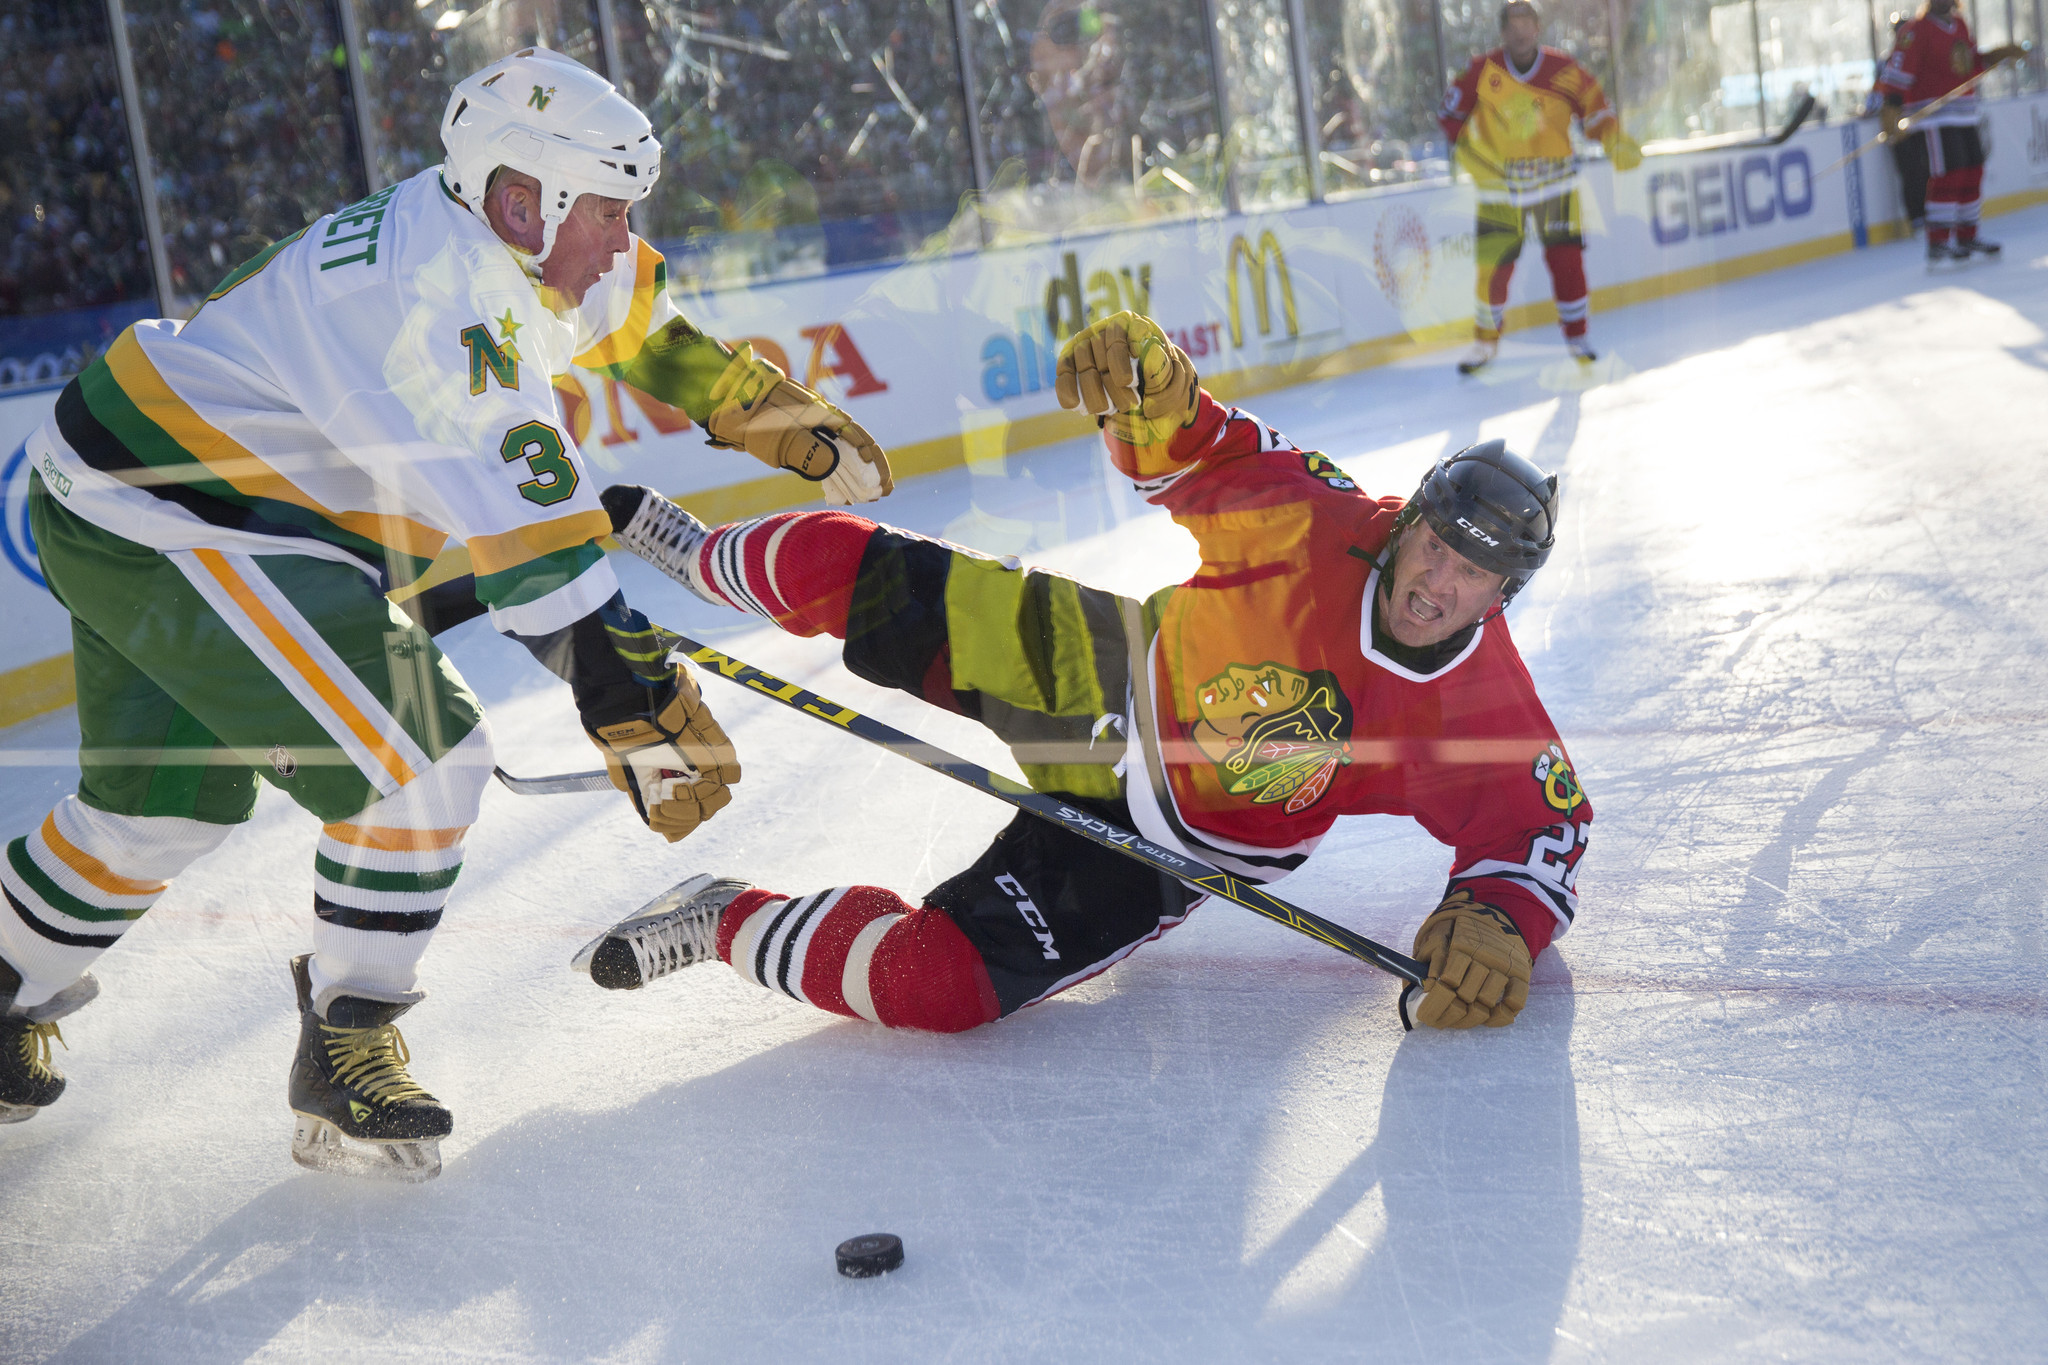geico: (1643, 145, 1841, 251)
